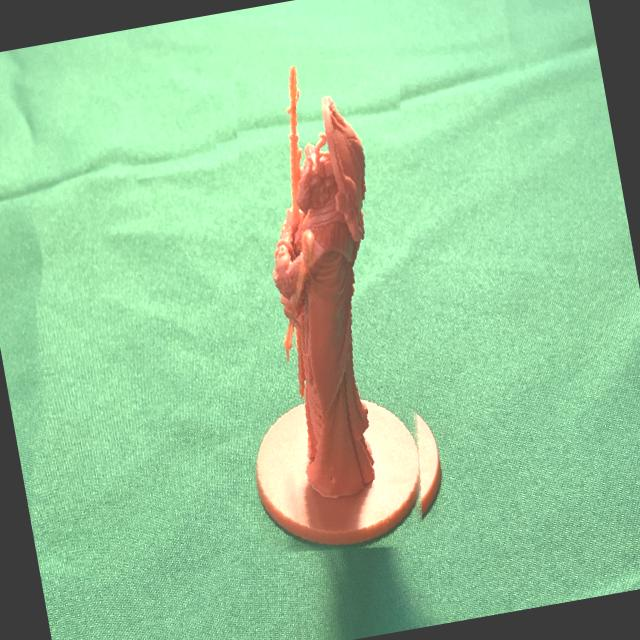amon: (190, 46, 467, 566)
